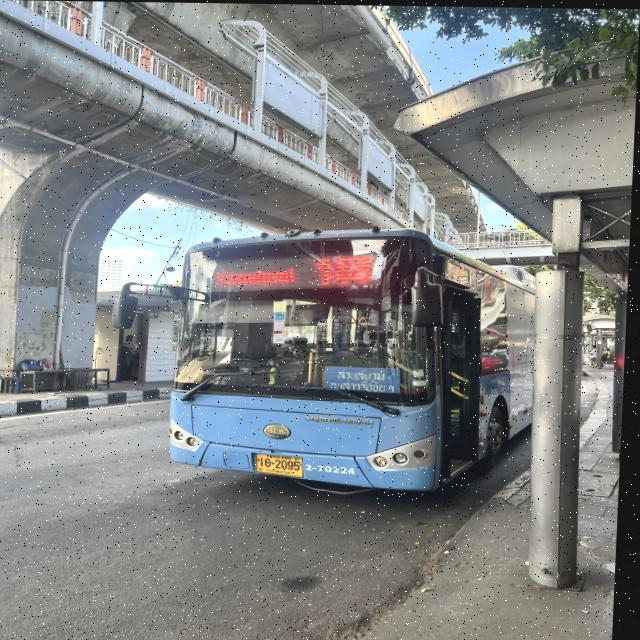BMTA-bus: (168, 226, 542, 495)
Bus-Line-Number: (311, 249, 381, 287)
Destination-Sign-Normal: (326, 364, 407, 393)
